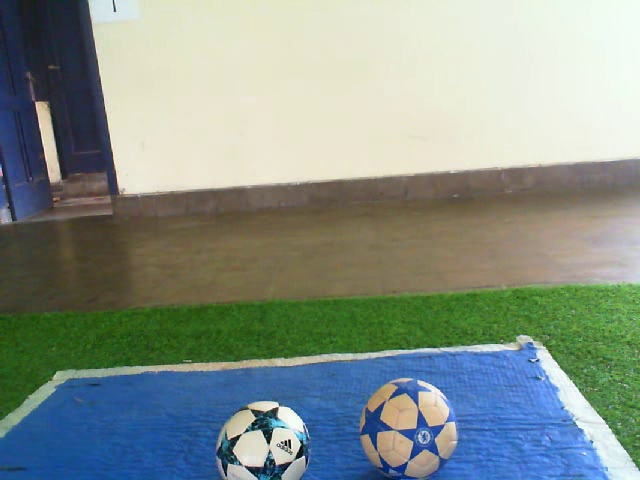ball: (355, 374, 462, 480), (212, 396, 314, 480)
